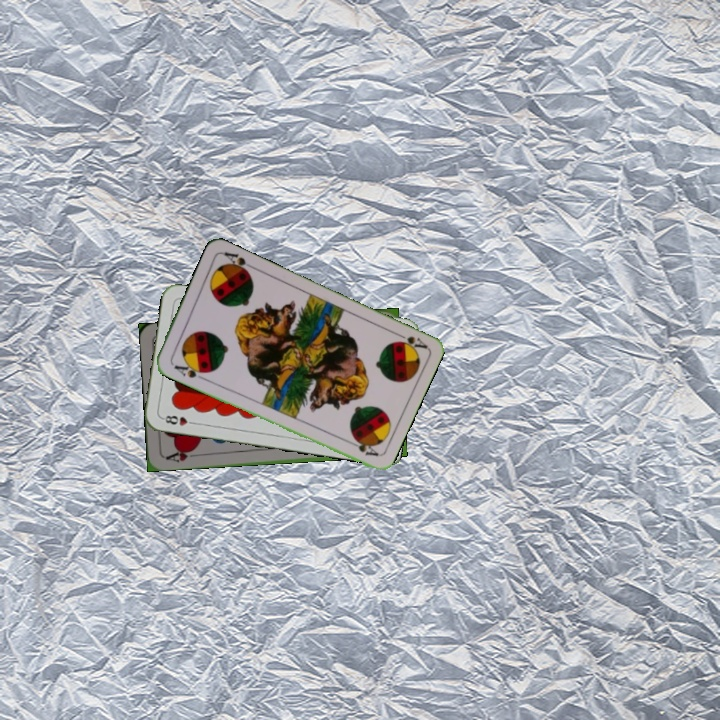H8: (158, 411, 199, 428)
HA: (161, 444, 202, 465)
SA: (390, 328, 429, 354), (170, 358, 209, 382)
